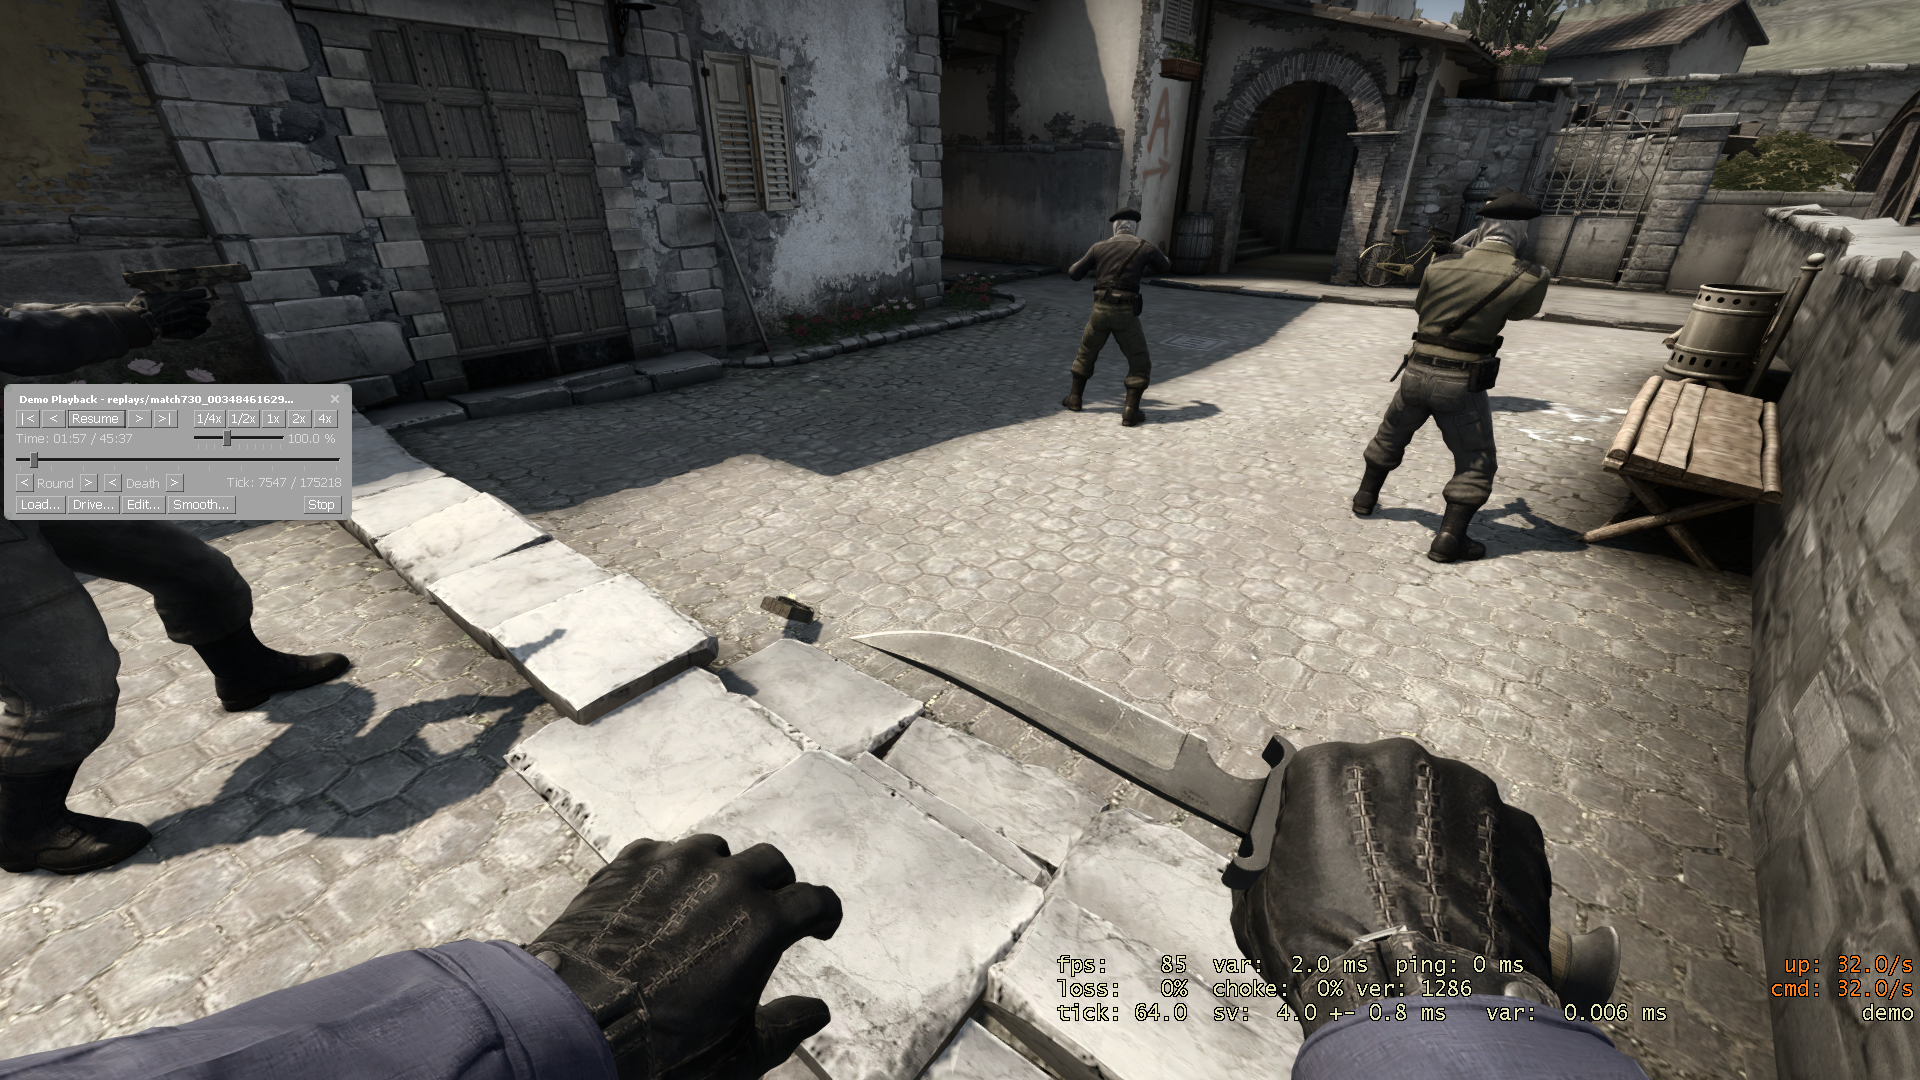t: (1348, 194, 1549, 556), (1064, 208, 1170, 425)
